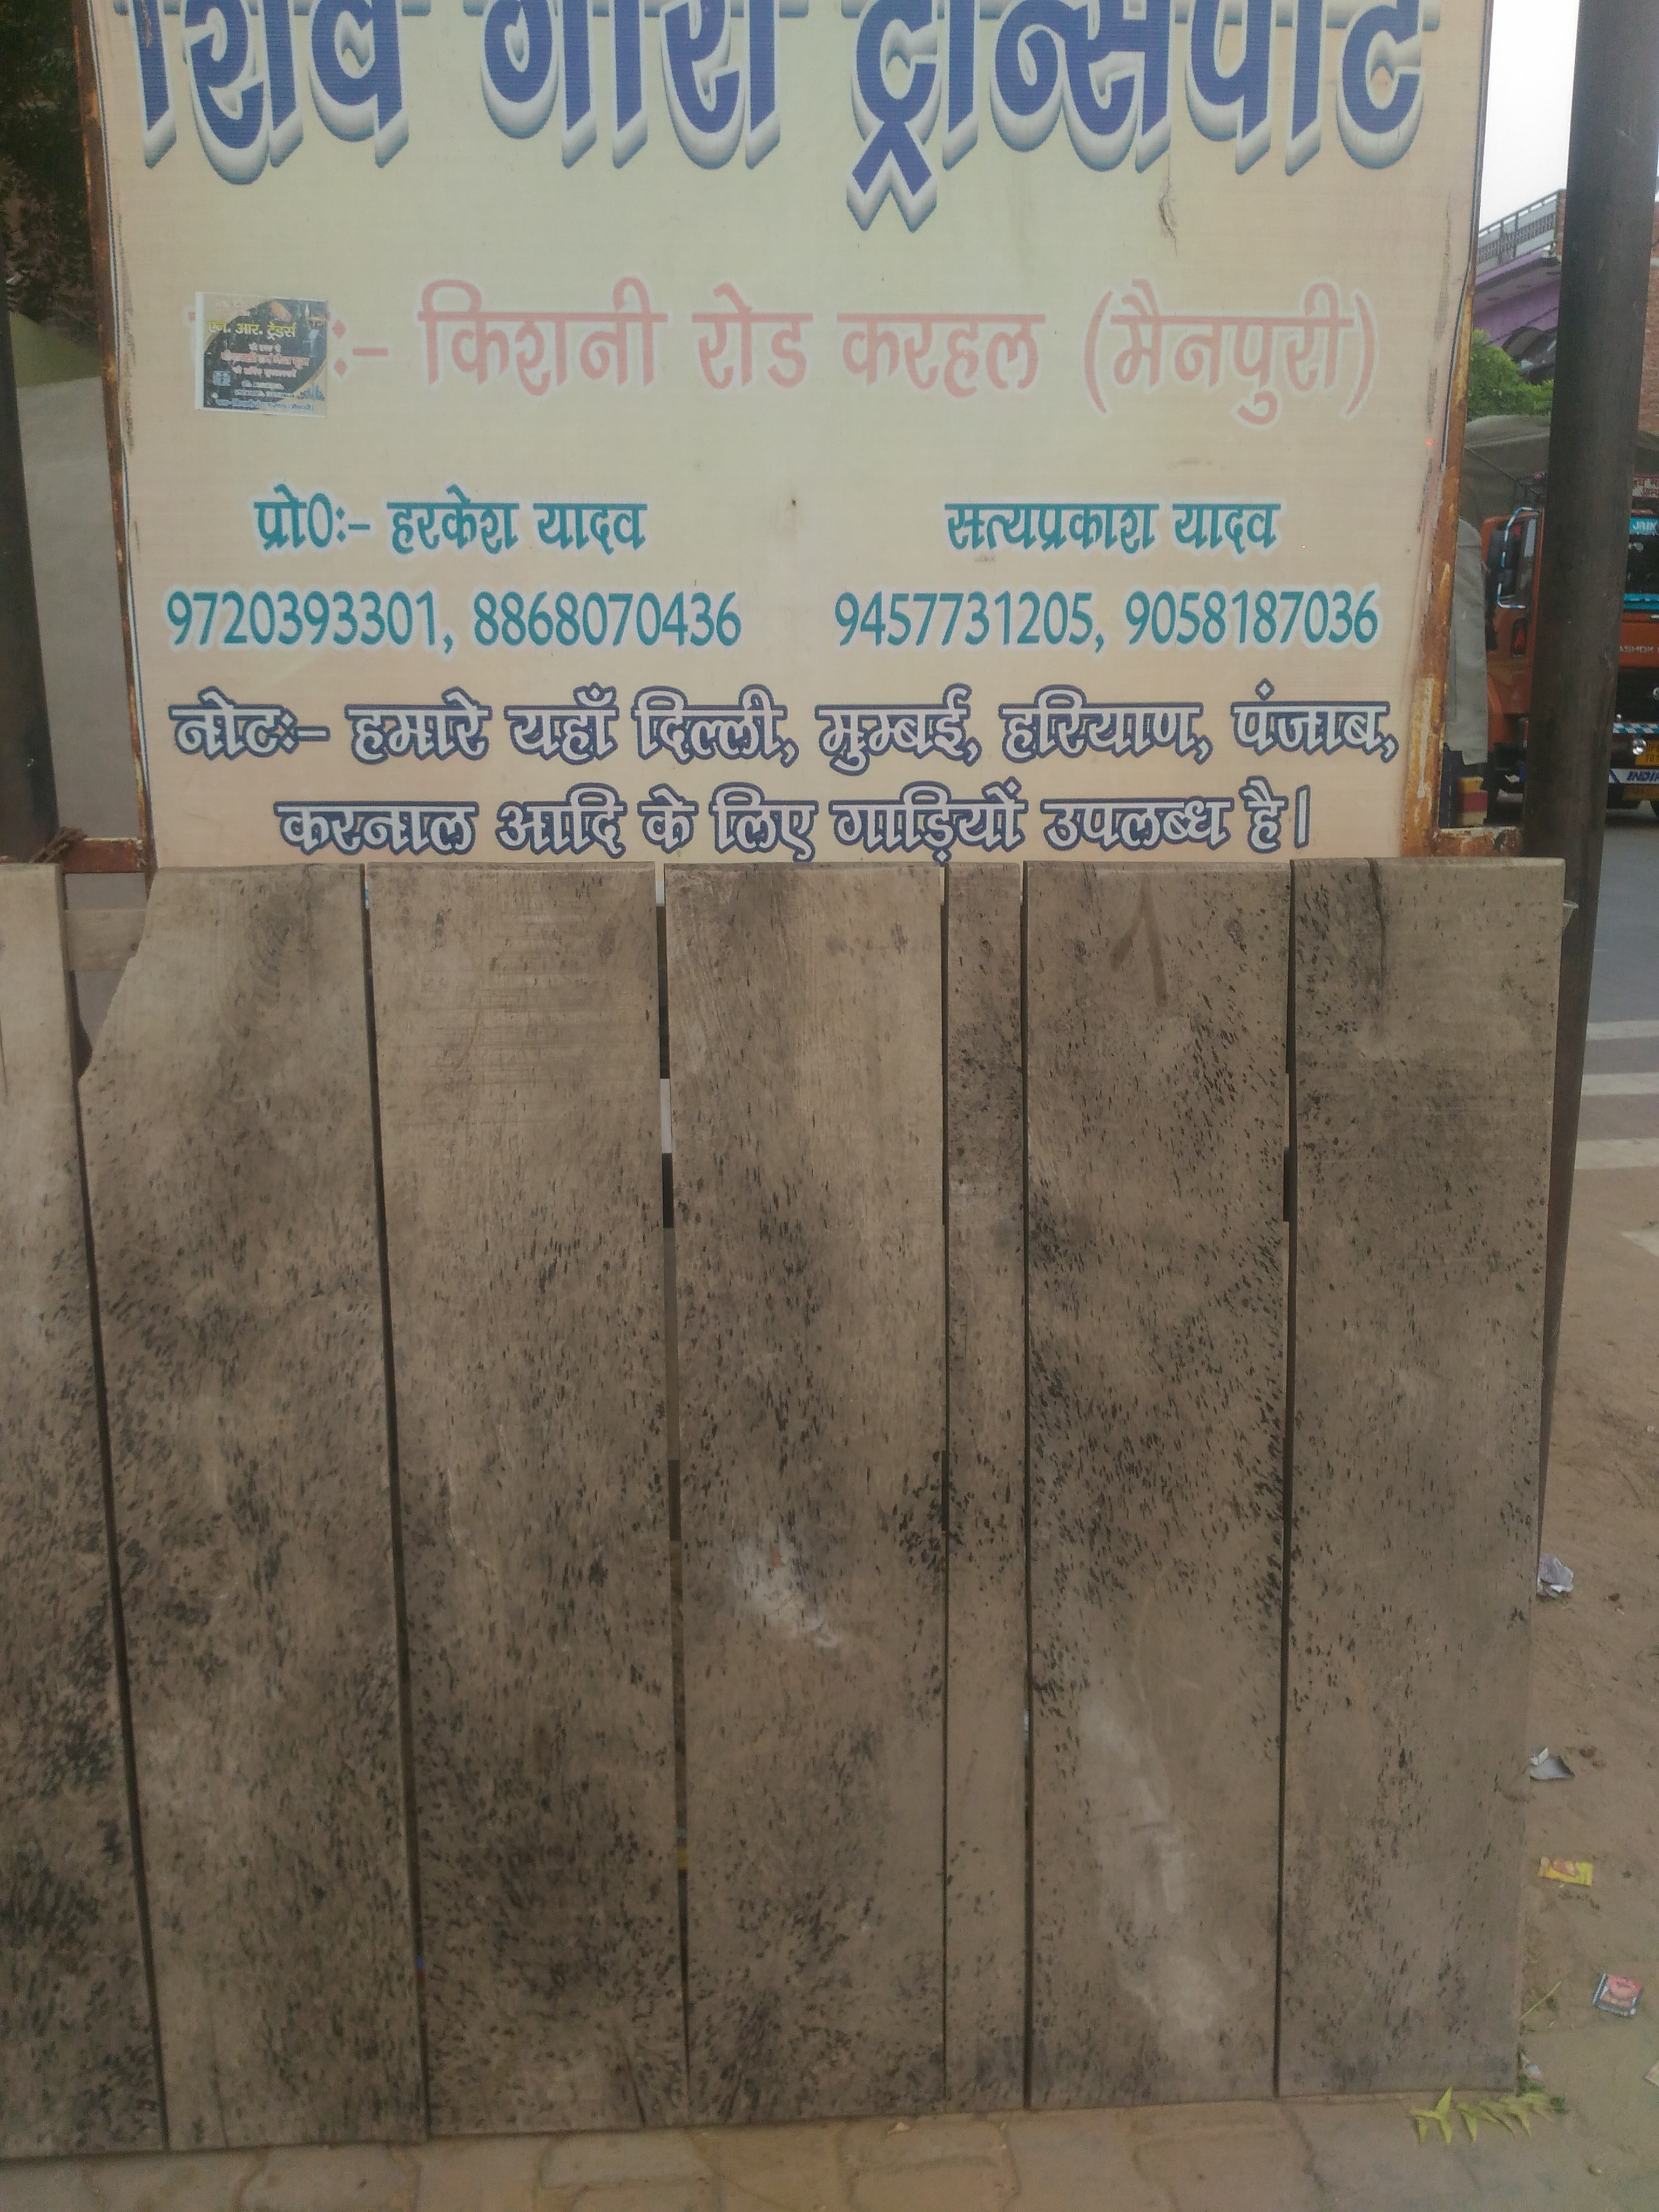text: (78, 7, 1493, 864)
